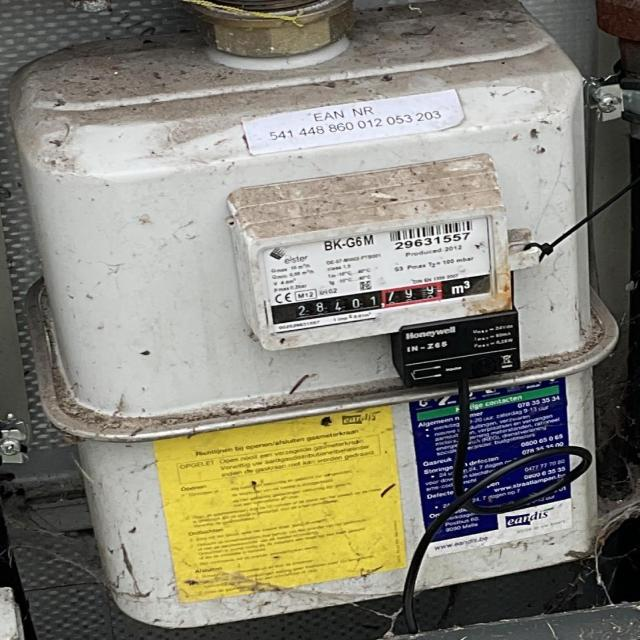gaz_meter: (261, 216, 494, 331)
indication: (283, 280, 444, 325)
